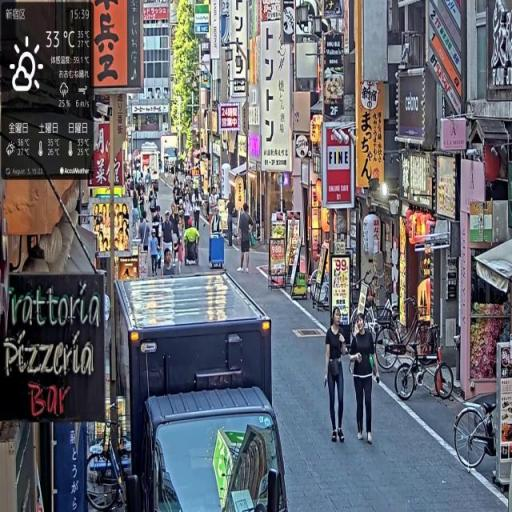person: (351, 314, 380, 445), (325, 308, 347, 444), (239, 204, 255, 274), (184, 220, 201, 262), (153, 206, 163, 270), (176, 219, 186, 276), (163, 211, 175, 257), (227, 195, 237, 248), (140, 212, 153, 252), (150, 231, 161, 277), (193, 189, 203, 231), (153, 206, 163, 246), (209, 189, 219, 224), (184, 194, 194, 227), (171, 206, 181, 239), (211, 208, 223, 235), (149, 187, 158, 216), (174, 179, 183, 205), (139, 188, 146, 220), (146, 168, 152, 195), (179, 200, 185, 223), (123, 204, 130, 220)
